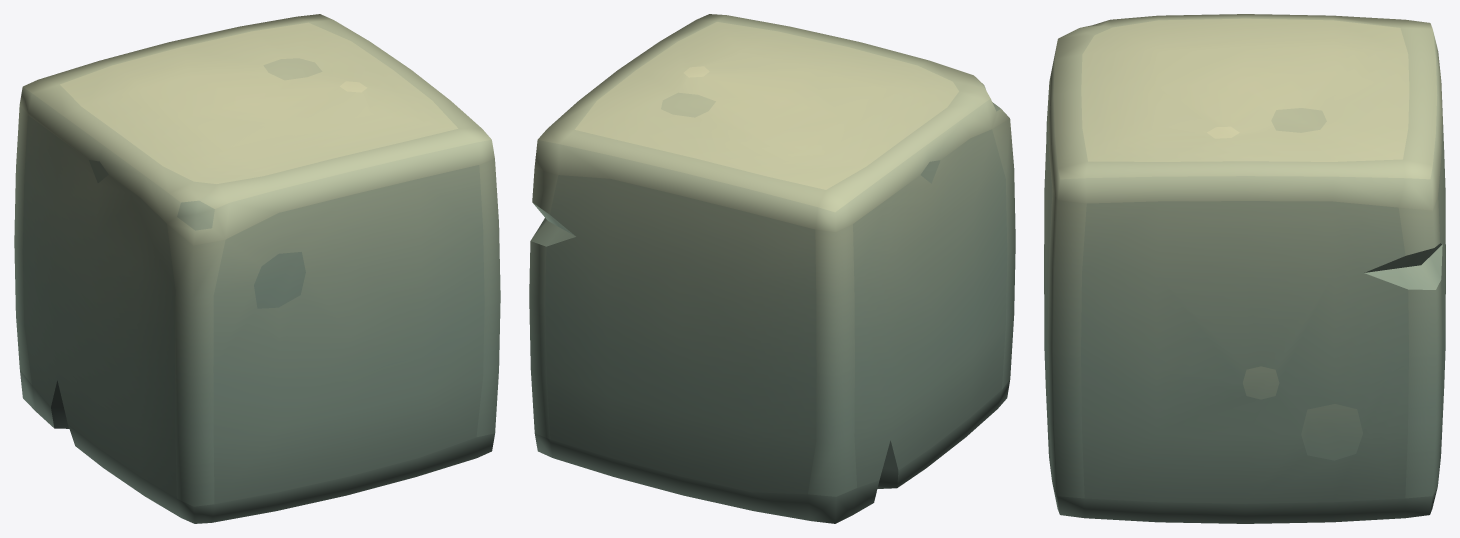
File: block_stone1_2_LOD_group.fbx
The picture shows the model from 3 angles, left to right: view 1: azimuth 30°, elevation 25°; view 2: azimuth 150°, elevation 25°; view 3: azimuth 270°, elevation 25°; orthographic projection. The views are drawn at different scales.
Visible parts, largest first — view 1: block_stone1_2_LOD0; view 2: block_stone1_2_LOD0; view 3: block_stone1_2_LOD0.
Boxes of the visible parts, x1,y1,x2,y2 form: block_stone1_2_LOD0: [14, 14, 500, 523]; block_stone1_2_LOD0: [529, 14, 1015, 523]; block_stone1_2_LOD0: [1044, 14, 1445, 523].
Size of what is drawn, in the model's own units: 109 by 109 by 109.
Materials: 1 (1 with a texture image).
